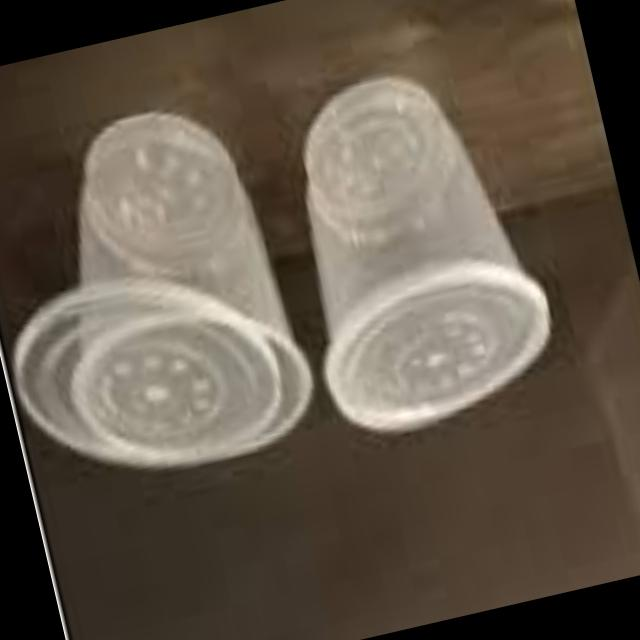GelasPlastik: (0, 88, 327, 505), (258, 50, 570, 450)
